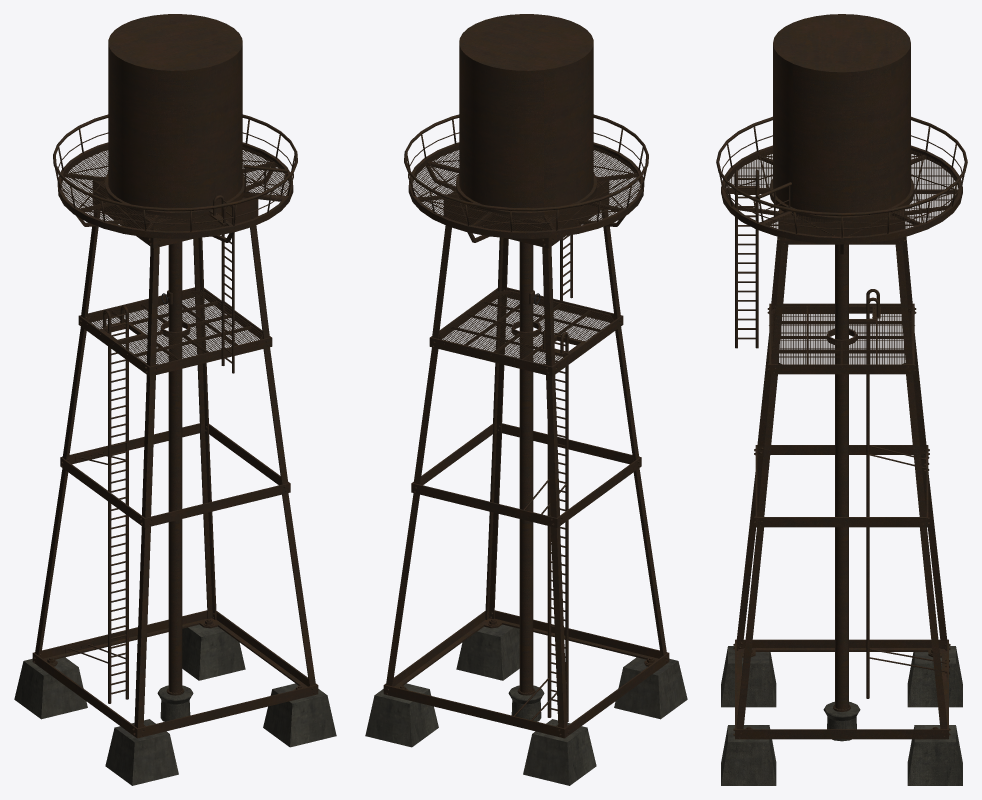
The model's file is water_tower_hm_1.obj.
The picture shows the model from 3 angles, left to right: view 1: azimuth 30°, elevation 25°; view 2: azimuth 150°, elevation 25°; view 3: azimuth 270°, elevation 25°; orthographic projection. The views are drawn at different scales.
Visible parts, largest first — view 1: water_tower_hm_1; view 2: water_tower_hm_1; view 3: water_tower_hm_1.
Part boxes in pixels (<box>): water_tower_hm_1: <box>14,14,336,785</box>; water_tower_hm_1: <box>365,14,687,785</box>; water_tower_hm_1: <box>716,14,967,785</box>.
Bounding box in the file's own units: 7.29 × 22.1 × 7.29.
